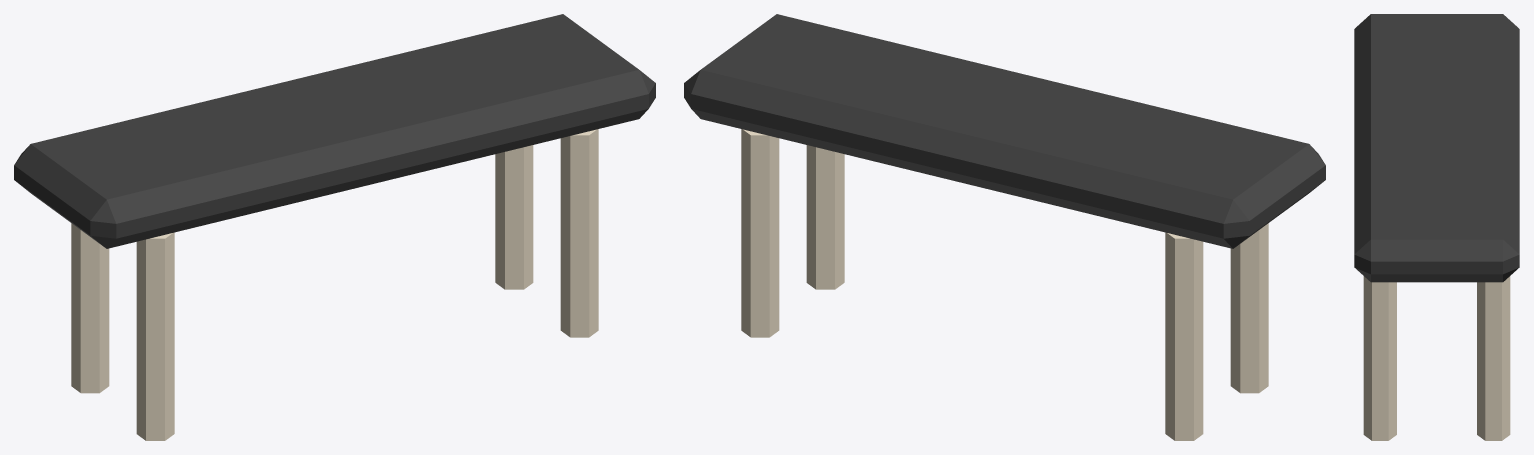
The picture shows the model from 3 angles, left to right: view 1: azimuth 30°, elevation 25°; view 2: azimuth 150°, elevation 25°; view 3: azimuth 270°, elevation 25°; orthographic projection. The views are drawn at different scales.
Visible parts, largest first — view 1: Cushion, Leg.002, Leg, Leg.001, Leg.003; view 2: Cushion, Leg.003, Leg.001, Leg, Leg.002; view 3: Cushion, Leg.002, Leg.003.
Boxes of the visible parts, x1,y1,x2,y2 form: Cushion: (14, 14, 655, 248); Leg.002: (560, 129, 598, 337); Leg: (136, 232, 174, 440); Leg.001: (71, 223, 109, 393); Leg.003: (495, 145, 533, 289); Cushion: (684, 14, 1325, 248); Leg.003: (741, 129, 779, 337); Leg.001: (1165, 232, 1203, 440); Leg: (1230, 223, 1268, 393); Leg.002: (806, 145, 844, 289); Cushion: (1354, 14, 1519, 282); Leg.002: (1363, 276, 1396, 440); Leg.003: (1477, 276, 1510, 440).
Bounding box in the file's own units: 1.2 × 0.51 × 0.35.
1 material, 1 textured.
